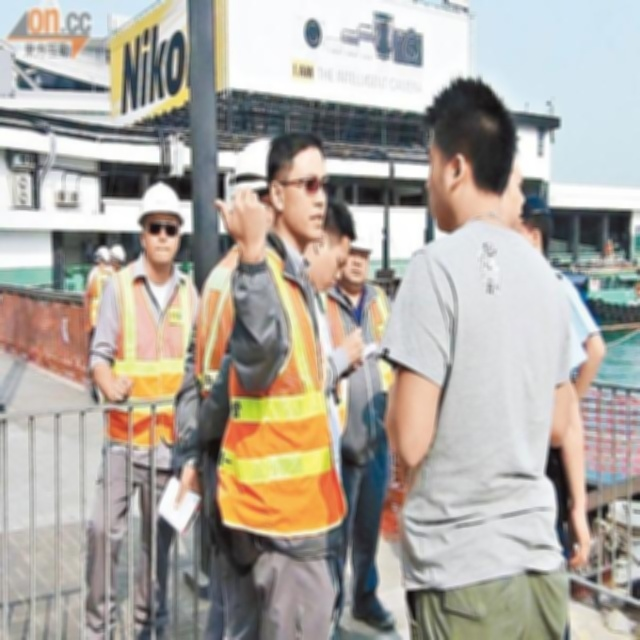Con_Chaleco: (223, 242, 346, 529), (114, 265, 192, 444)
Sin_Casco_Mascarrilla: (427, 76, 512, 232), (269, 135, 330, 232)
